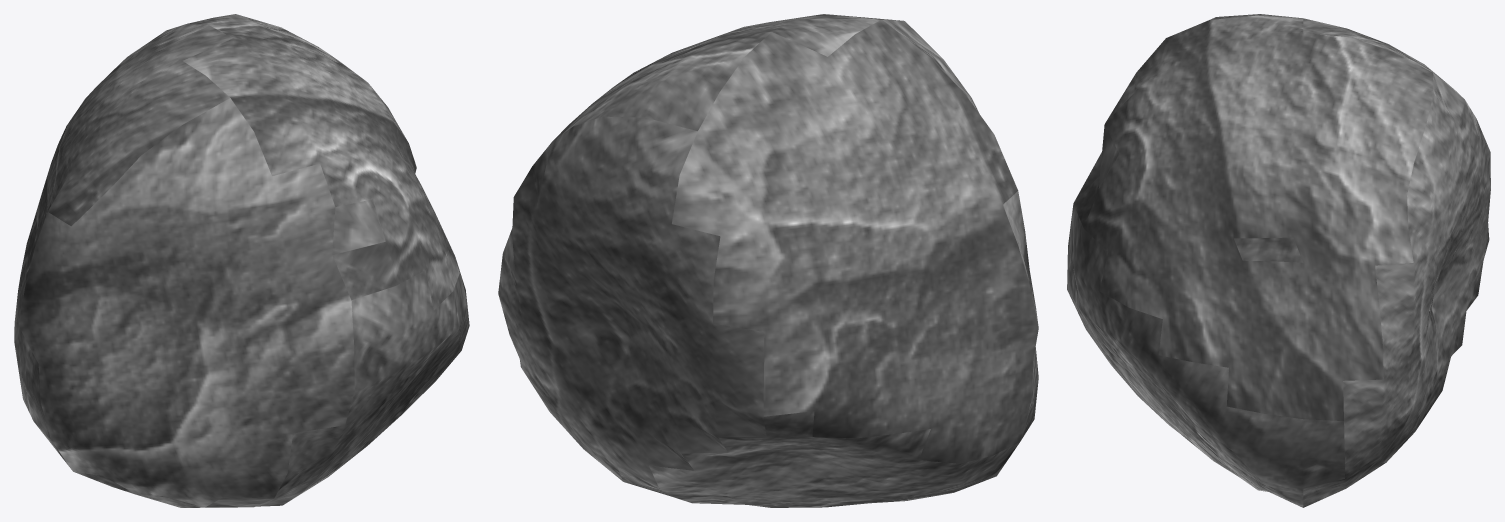
The model's file is asteroid1.glb.
The picture shows the model from 3 angles, left to right: view 1: azimuth 30°, elevation 25°; view 2: azimuth 150°, elevation 25°; view 3: azimuth 270°, elevation 25°; orthographic projection. The views are drawn at different scales.
Visible parts, largest first — view 1: Cube; view 2: Cube; view 3: Cube.
Part boxes in pixels (<box>): Cube: <box>14,14,469,507</box>; Cube: <box>498,14,1038,507</box>; Cube: <box>1067,14,1490,507</box>.
Size of the model in its own units: 14.32 by 13.79 by 12.31.
Materials: 1 (1 with a texture image).
